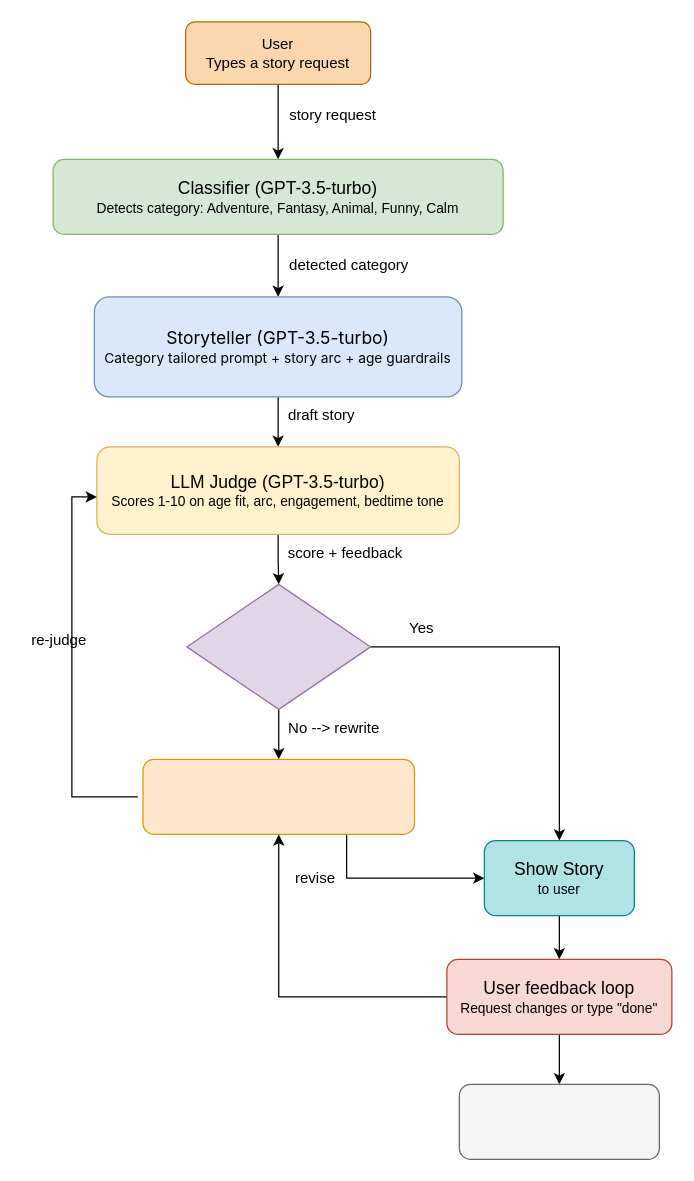
Some shapes in this 694 by 1181 pixel diagram are drawn without their labels. Each missing label, with the centre of its shape:
Done- "Sweet Dreams!": (x=558, y=1121)
Score >= 7?: (x=278, y=646)
Story Improver (GPT-3.5-turbo) Rewrites using judge feedback: (x=278, y=796)
